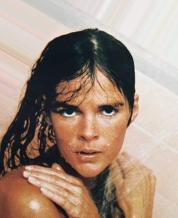face: (56, 100, 119, 164)
